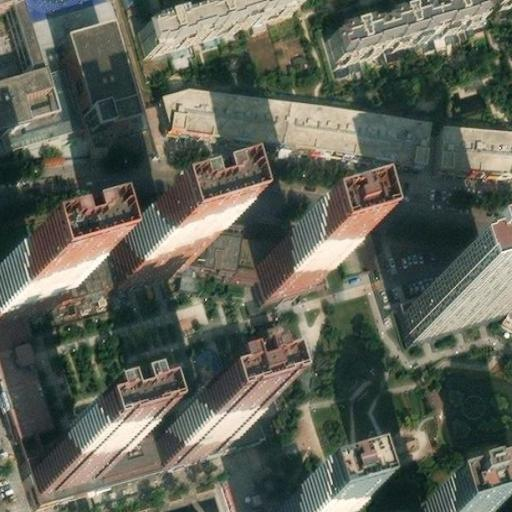building: (0, 248, 251, 499), (162, 83, 432, 158), (164, 219, 356, 268), (329, 0, 485, 55), (71, 10, 145, 120), (409, 255, 512, 322), (99, 217, 181, 275), (147, 403, 221, 456), (25, 431, 96, 483), (440, 117, 512, 167), (249, 238, 311, 287), (0, 256, 51, 307), (173, 416, 188, 424)
